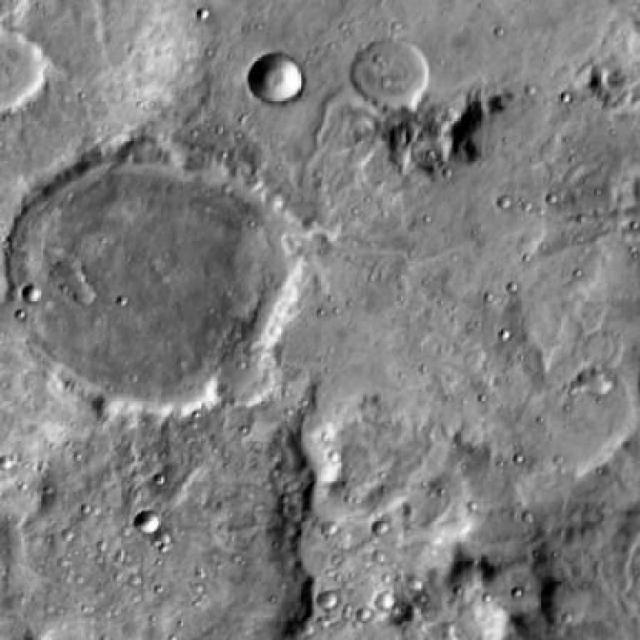crater: (23, 150, 322, 418), (347, 41, 427, 113), (0, 31, 66, 118), (248, 56, 302, 106), (49, 257, 100, 305), (582, 372, 609, 396), (132, 510, 157, 532), (318, 592, 336, 610), (589, 69, 608, 86), (377, 592, 394, 608), (369, 522, 386, 538)
